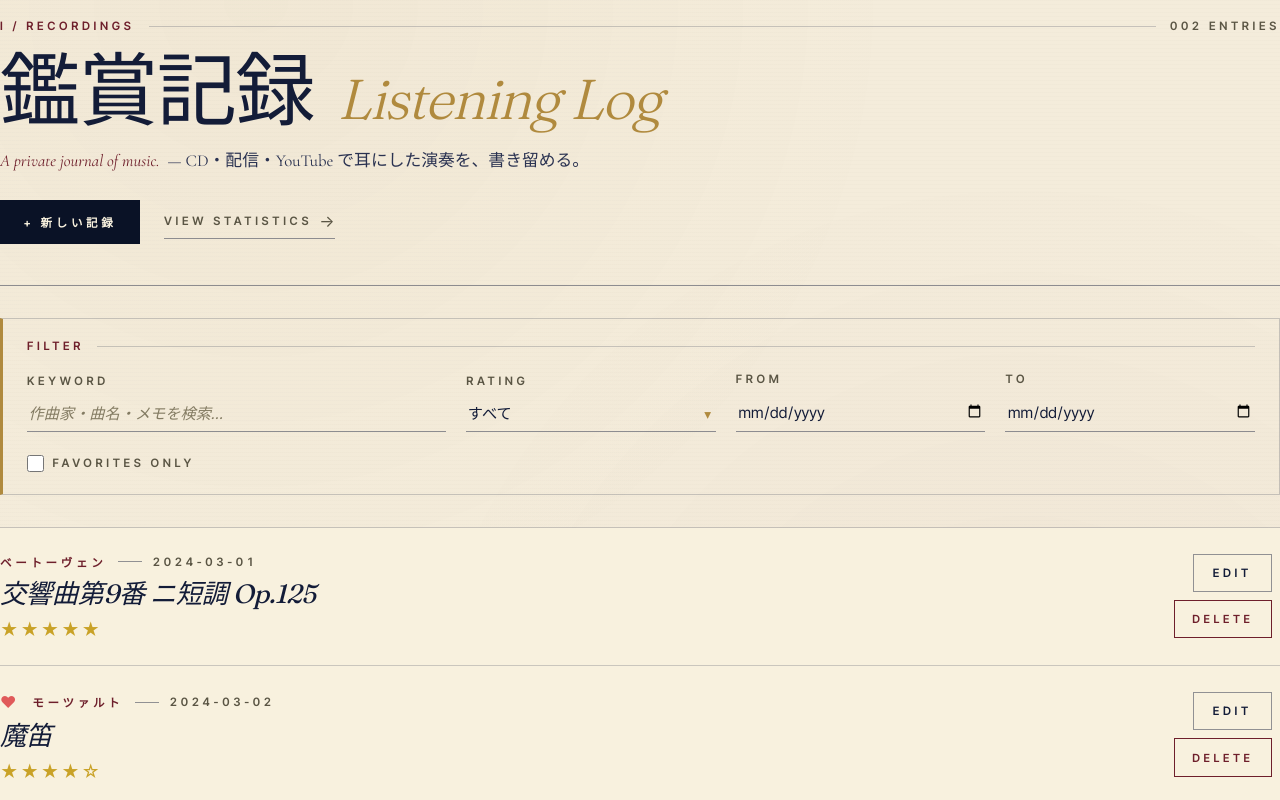
Scenario: ListeningLogsPage（検索フィルタ結合） › 条件をクリアすると全件に戻る
The image size is (1280, 800).
In the field labelled "Keyword": [237, 414] box [27,395,446,432], type "モーツァルト"
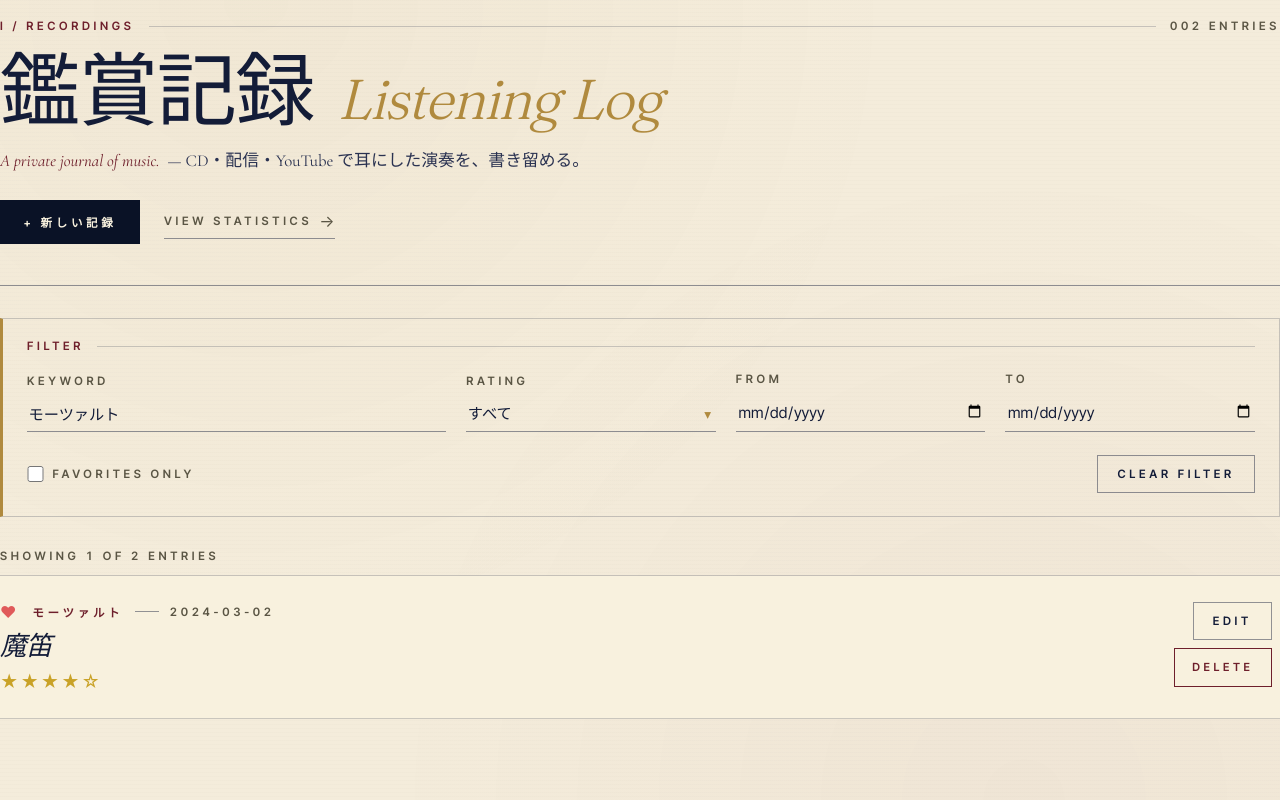
Click the button "Clear filter": [1176, 474] box [1097,455,1255,493]
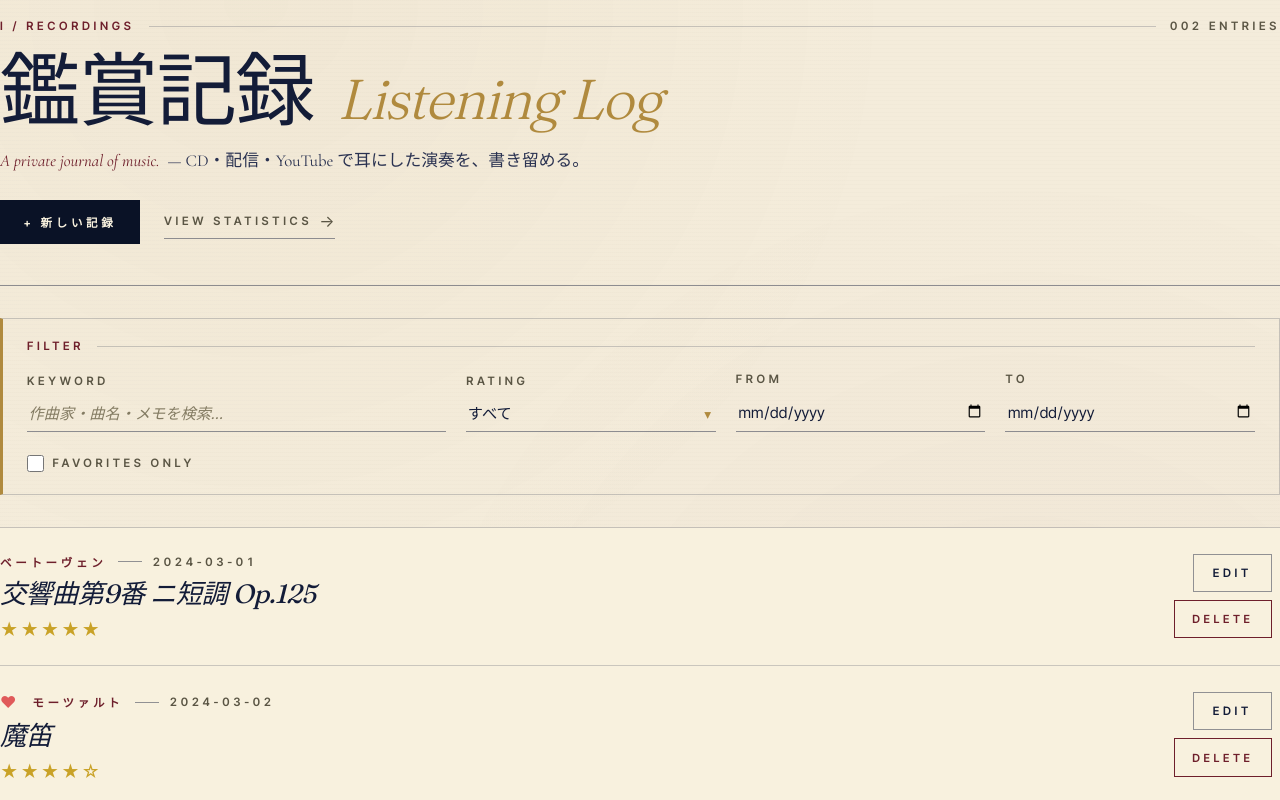
Check: the number of buttons with class "btn-danger" is 2, box [1174,600,1272,638]; [1174,738,1272,777]
